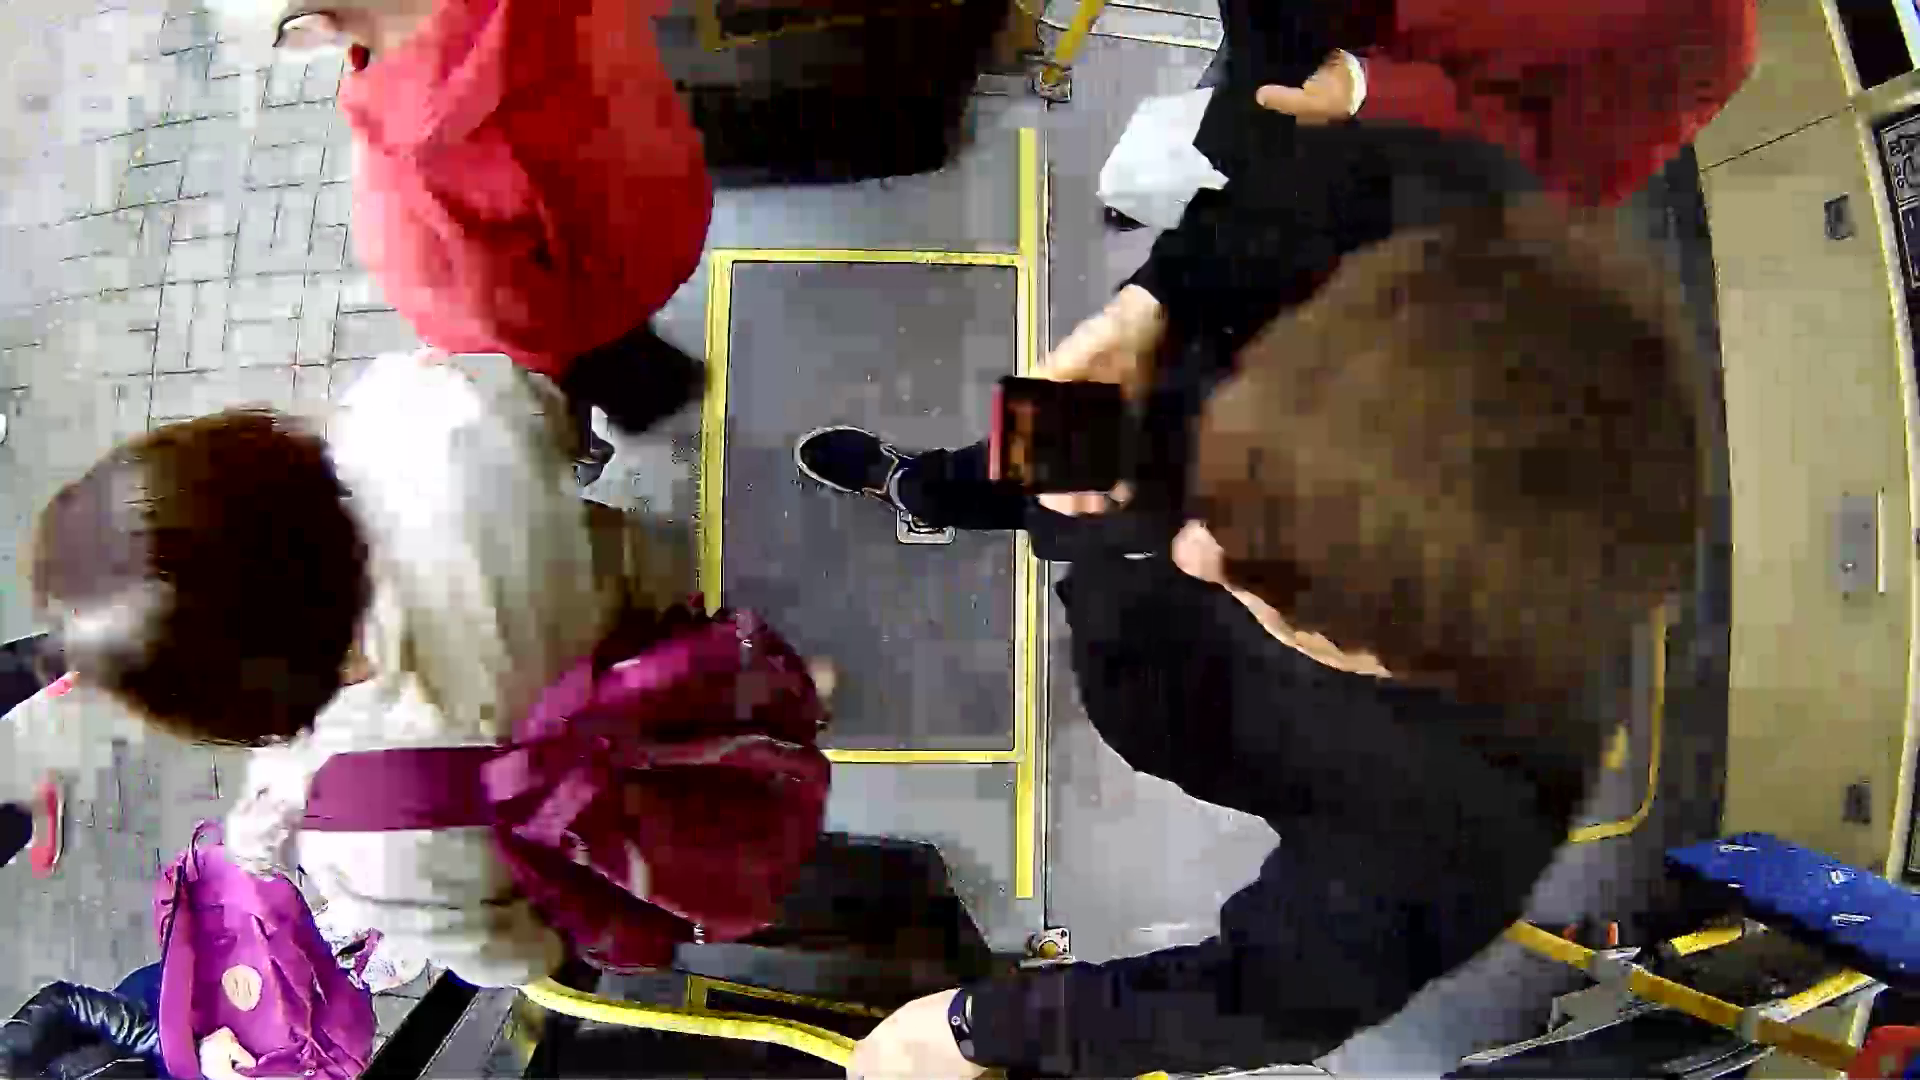person: (816, 158, 1697, 994), (46, 333, 843, 968)
